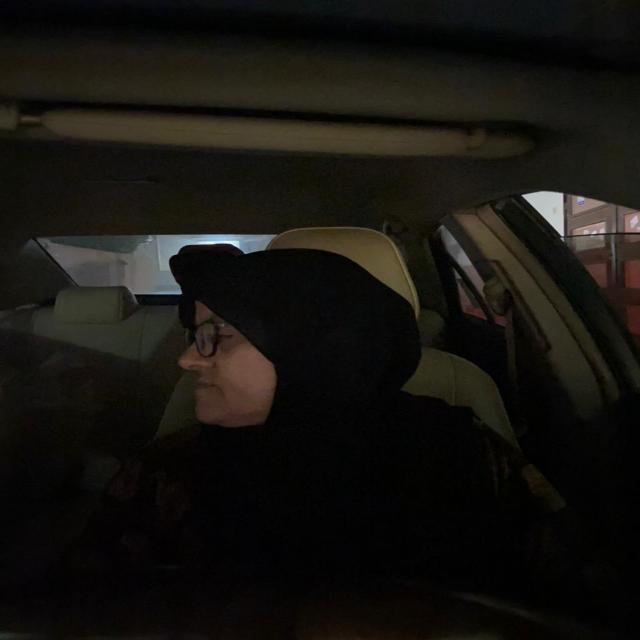LeftRight: (160, 226, 419, 452)
